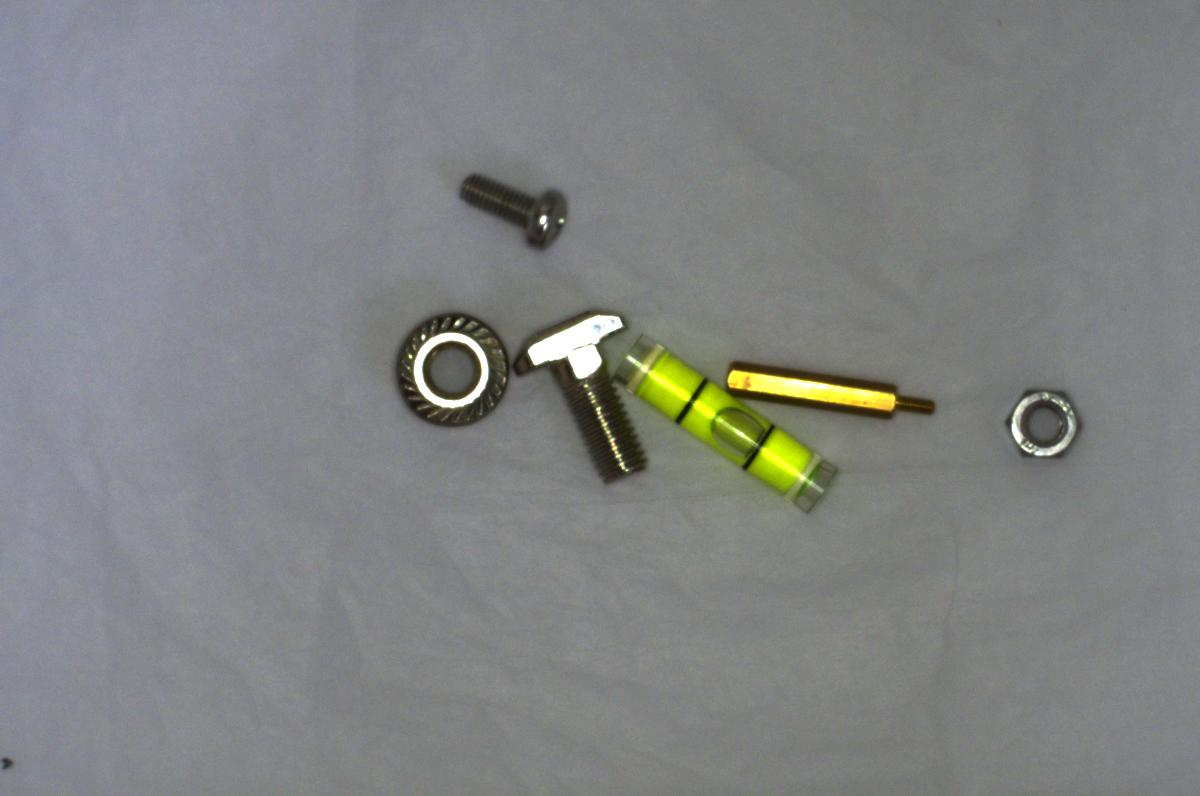Flange nut: (378, 308, 519, 428)
Hexagon nut: (993, 378, 1093, 470)
Hexagon pillar: (718, 358, 937, 428)
Horizontal bubble: (614, 329, 837, 507)
Round head screw: (457, 166, 572, 252)
T-shaped screw: (520, 300, 650, 479)
